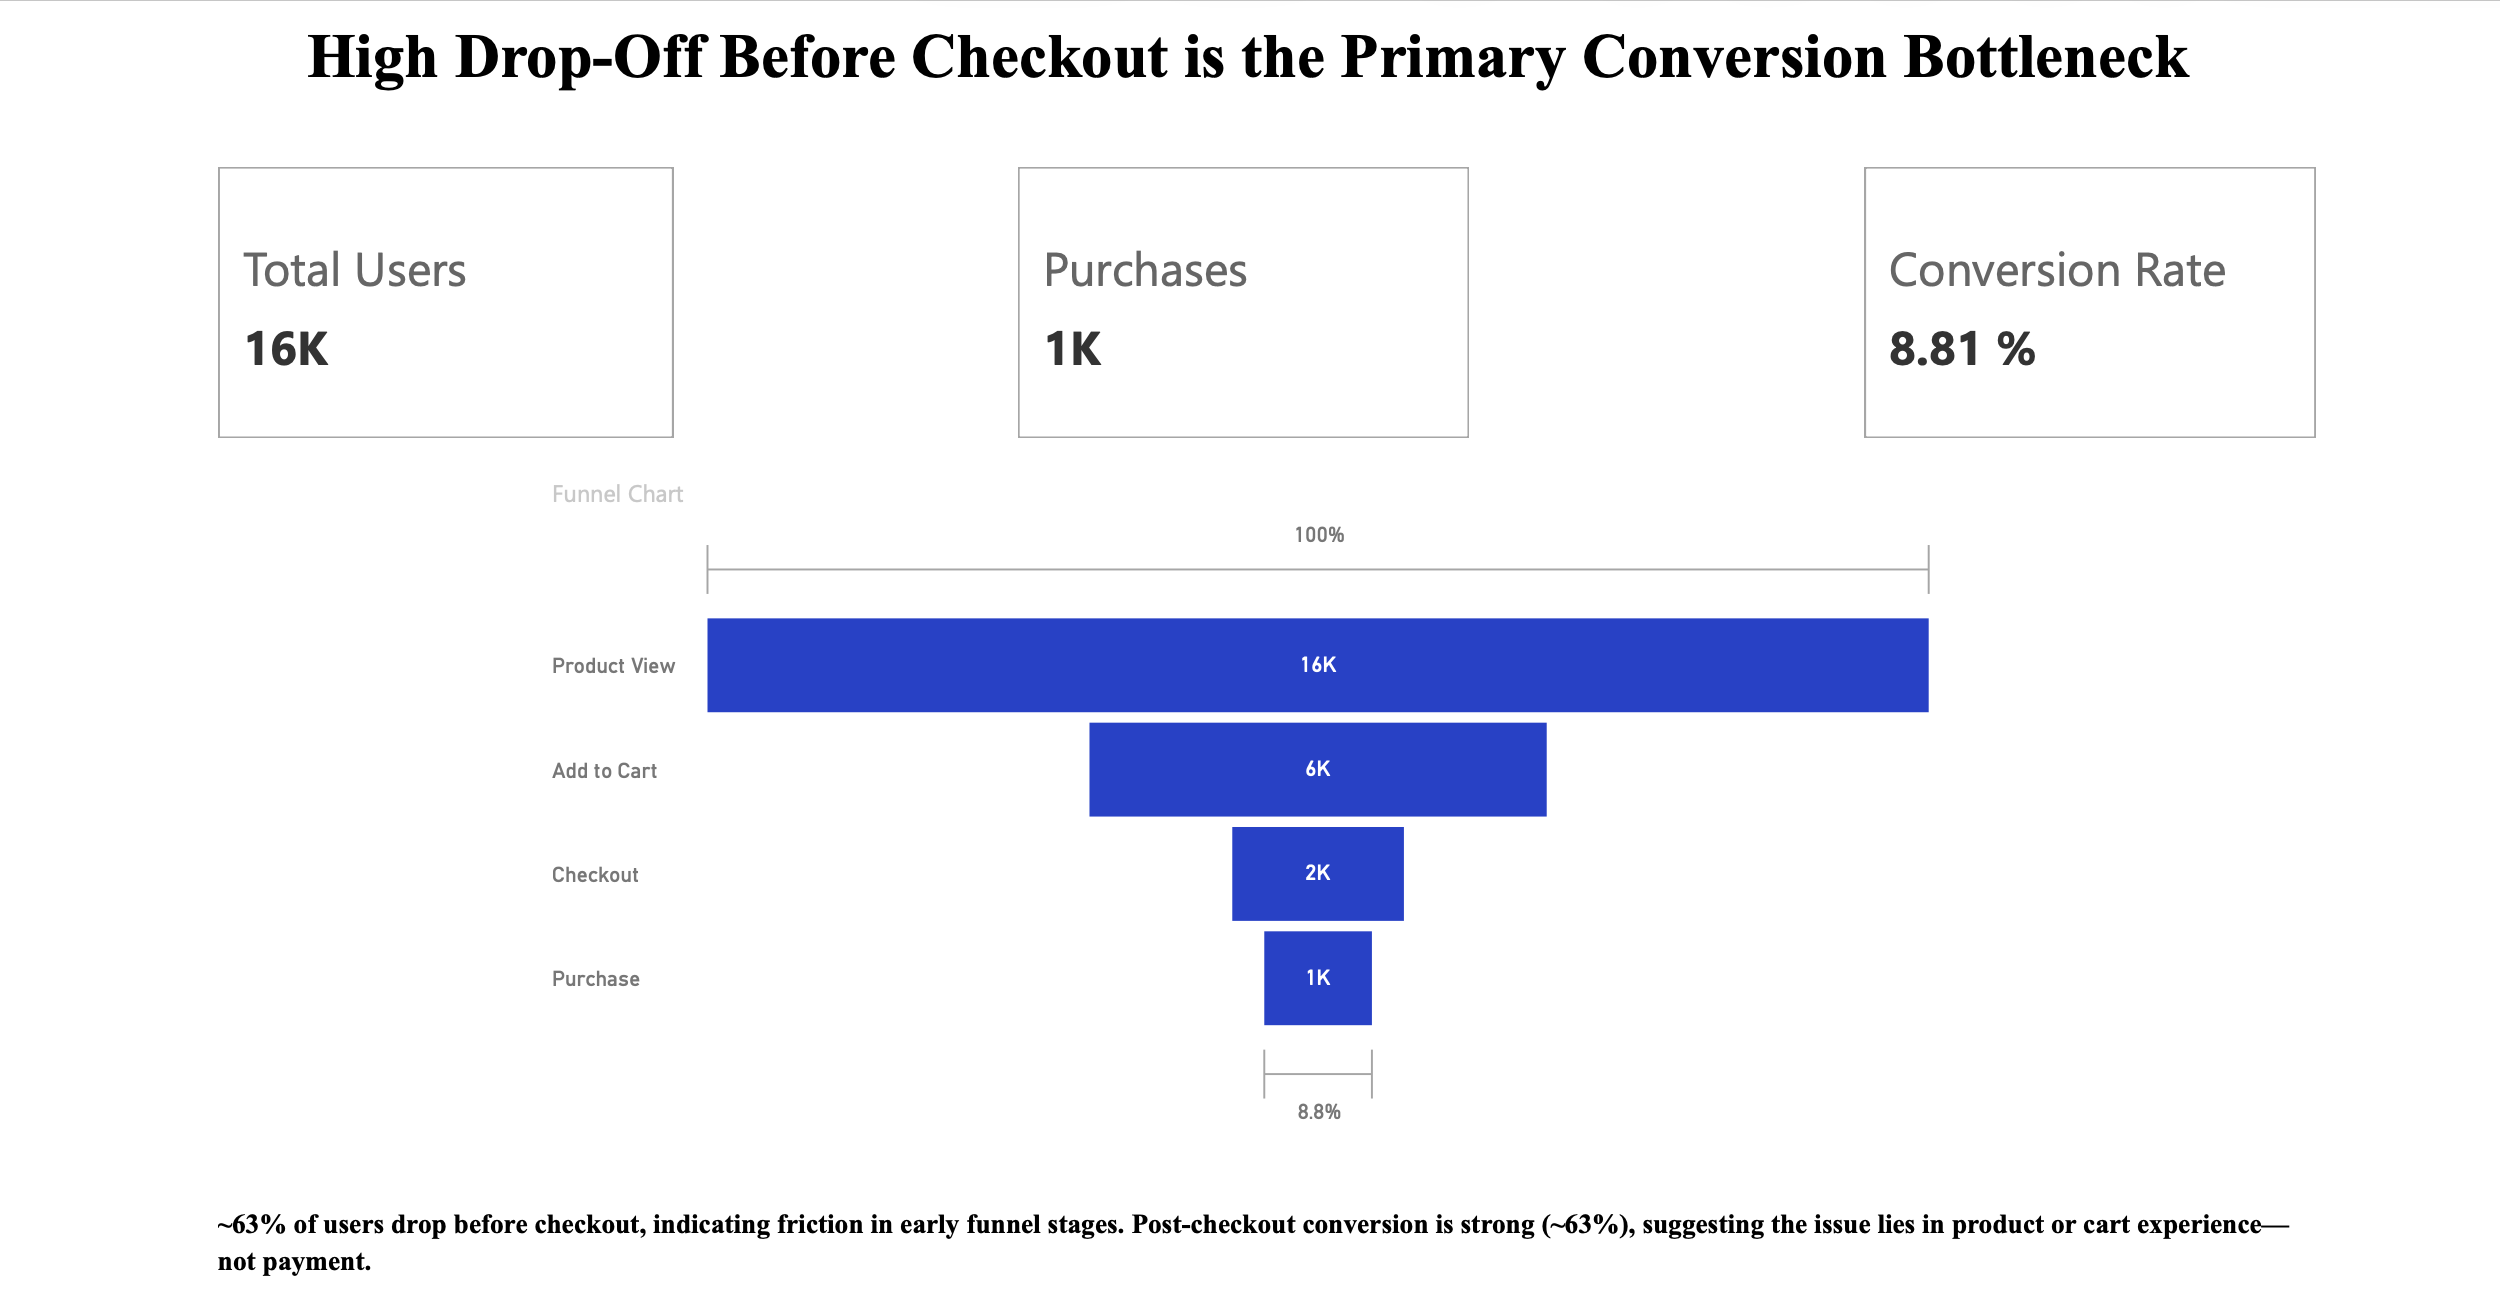

What the dashboard file says about the page in this screenshot:
{"tool":"powerbi","page":{"name":"Overall_Analysis","canvas":[1280,720],"ordinal":0},"visuals":[{"type":"funnel","title":"Funnel Chart","fields":{"Y":["Sum(funnel_overall.product_view)","Sum(funnel_overall.add_to_cart)","Sum(funnel_overall.checkout)","Sum(funnel_overall.purchase)"]},"box":[277.6,238.4,718.9,338.1],"z":0},{"type":"cardVisual","fields":{"Data":["Sum(funnel_overall.product_view)"]},"box":[106.7,74.7,243.2,149.3],"z":1000},{"type":"cardVisual","fields":{"Data":["Sum(funnel_overall.purchase)"]},"box":[516.3,74.7,241.1,149.3],"z":2000},{"type":"cardVisual","fields":{"Data":["funnel_overall.Conversion Rate"]},"box":[949.3,74.7,241.1,149.3],"z":3000},{"type":"textbox","box":[0,0,1277.6,87.8],"z":4000},{"type":"textbox","box":[106.8,586,1083.1,104.4],"z":5000}]}

Visuals, with their boxes on the page's 1280x720 design canvas (x1, y1, x2, y2). These are canvas units, not pixel positions in the 2500x1308 screenshot, which may show the page scaled, cropped or inside an application window:
"Funnel Chart" funnel: <bbox>278, 238, 996, 576</bbox>
cardVisual - Sum(funnel_overall.product_view): <bbox>107, 75, 350, 224</bbox>
cardVisual - Sum(funnel_overall.purchase): <bbox>516, 75, 757, 224</bbox>
cardVisual - funnel_overall.Conversion Rate: <bbox>949, 75, 1190, 224</bbox>
textbox: <bbox>0, 0, 1278, 88</bbox>
textbox: <bbox>107, 586, 1190, 690</bbox>
